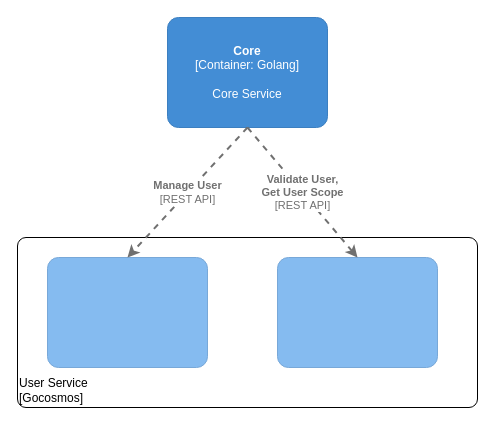
Image size: 495x425. Some labels were removed from this diagram. Each missing label, with the centre of its shape:
CRUD Handler [Component: Golang, Chi] CRUD Handler: the point at 127,312
User Cred & Role Handler [Component: Golang, Chi] User Cred & Role Handler: the point at 357,312
